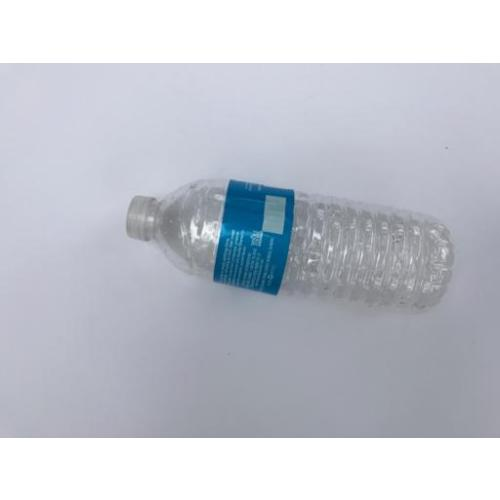plastic: (128, 178, 454, 312)
